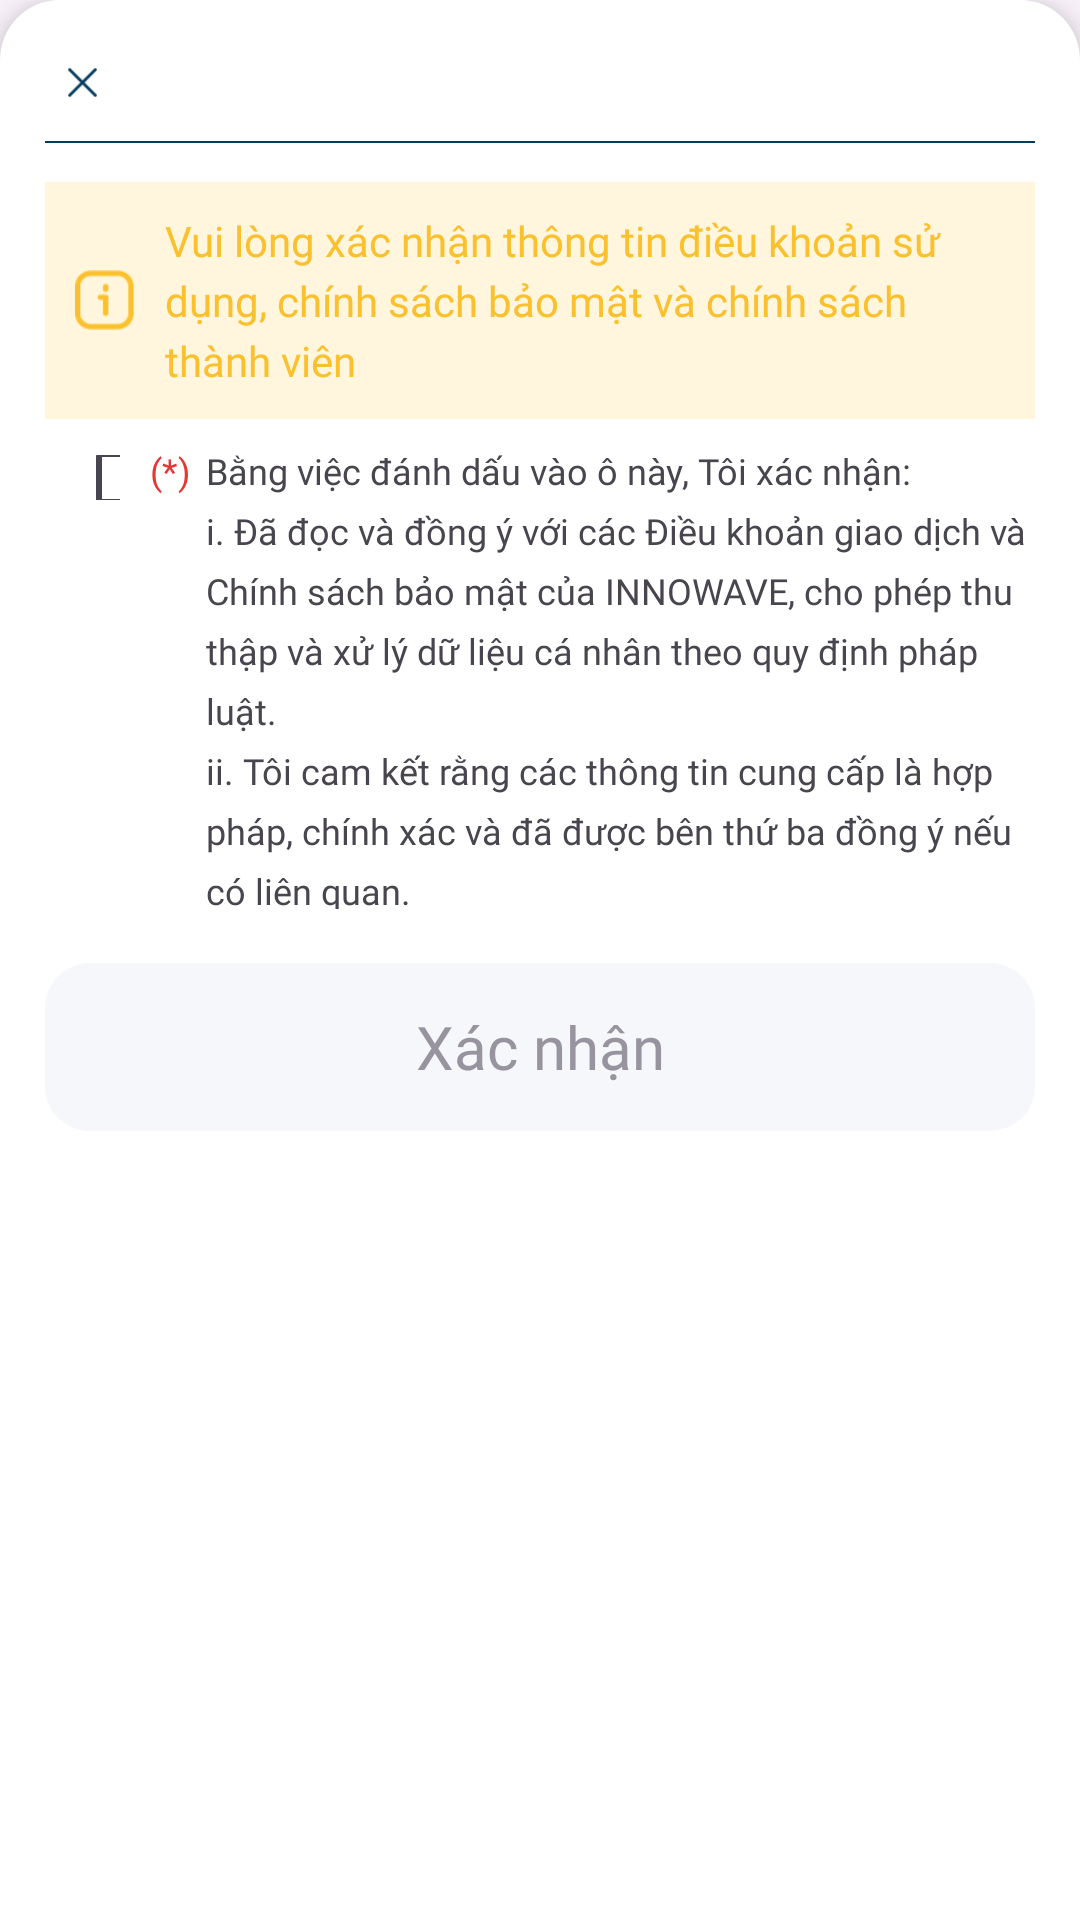

Icons on this 1080*1920 Android screen, each with its box as (x1, y1, x2, y2):
Thông báo: (75, 270, 134, 330)
Đóng: (68, 68, 97, 97)
